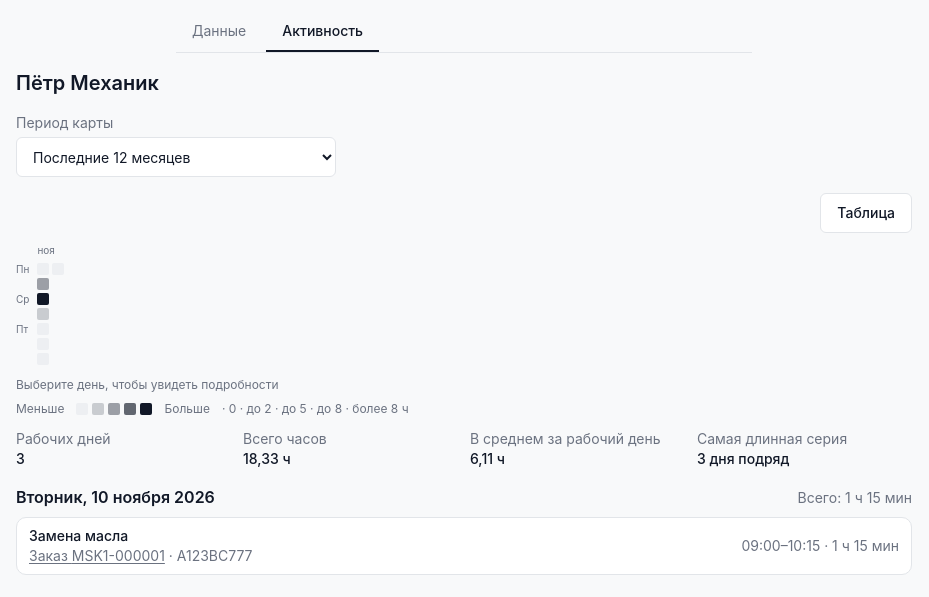
D-05 вкладка «Активность» › ?tab=activity открывает карту; «Данные» возвращают форму
expect the field labelled "ФИО" is not shown: met
Step 1. Click the tab "Данные" → point(219, 32), box [176, 12, 262, 52]
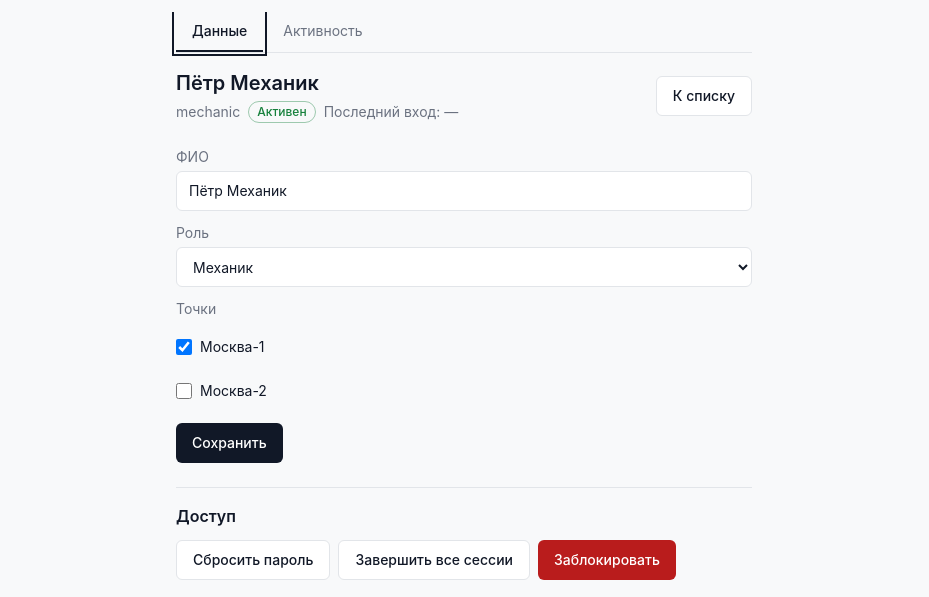
expect the field labelled "ФИО" holds "Пётр Механик": met, box [176, 171, 752, 211]
